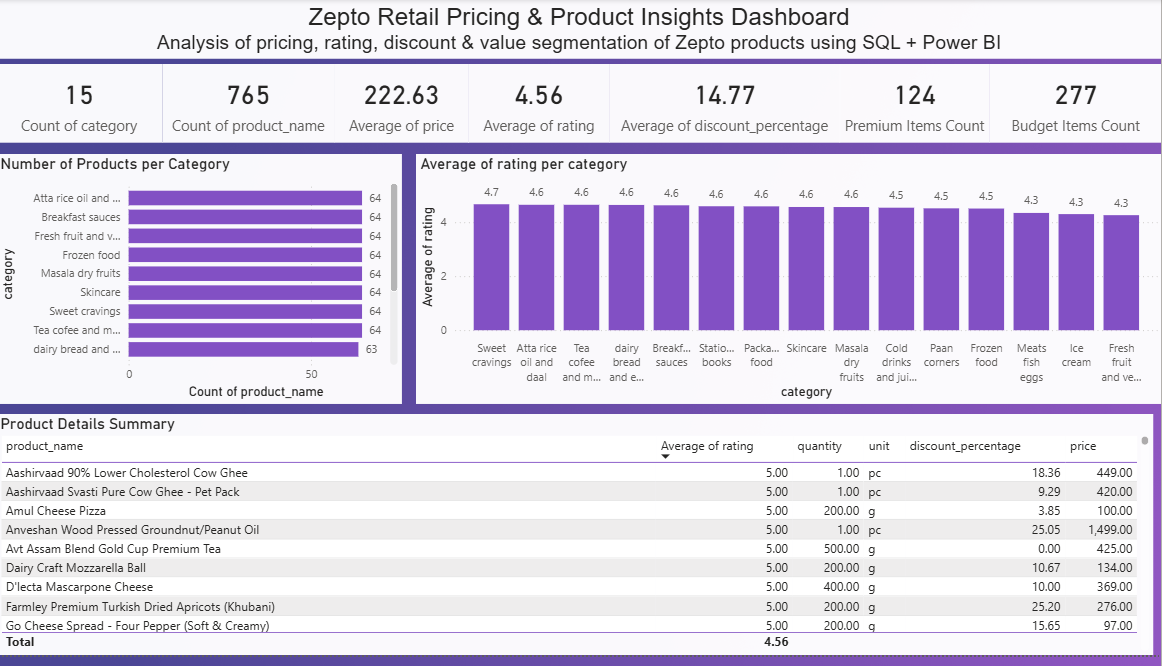

What the dashboard file says about the page in this screenshot:
{"tool":"powerbi","page":{"name":"Product Overview","canvas":[1280,720],"ordinal":0},"visuals":[{"type":"card","fields":{"Values":["Count(public zepto_products.category)"]},"box":[0,71.4,182.5,86.4],"z":0},{"type":"card","fields":{"Values":["CountNonNull(public zepto_products.product_name)"]},"box":[182.5,71.4,189.4,86.4],"z":1000},{"type":"card","fields":{"Values":["Avg(public zepto_products.price)"]},"box":[371.9,71.4,146.8,86.4],"z":2000},{"type":"card","fields":{"Values":["Avg(public zepto_products.rating)"]},"box":[518.7,71.4,155.1,86.4],"z":3000},{"type":"card","fields":{"Values":["Avg(public zepto_products.discount_percentage)"]},"box":[673.8,71.4,252.5,86.4],"z":4000},{"type":"textbox","box":[0,0,1280.3,65.9],"z":5000},{"type":"card","fields":{"Values":["Query2.Premium Items Count"]},"box":[926.2,71.4,164.7,86.4],"z":6000},{"type":"card","fields":{"Values":["Query2.Budget Items Count"]},"box":[1090.9,71.4,189.4,86.4],"z":7000},{"type":"clusteredBarChart","title":"Number of Products per Category","fields":{"Category":["public zepto_products.category"],"Y":["CountNonNull(public zepto_products.product_name)"]},"box":[0,170.2,446,274.4],"z":8000},{"type":"clusteredColumnChart","title":"Average of rating per category","fields":{"Category":["public zepto_products.category"],"Y":["Avg(public zepto_products.rating)"]},"box":[461.1,170.2,819.2,274.4],"z":9000},{"type":"tableEx","title":"Product Details Summary","fields":{"Values":["public zepto_products.product_name","Avg(public zepto_products.rating)","public zepto_products.quantity","public zepto_products.unit","public zepto_products.discount_percentage","public zepto_products.price"]},"box":[0,455.6,1270.7,264.8],"z":10000}]}

Visuals, with their boxes in screenshot pixels (x1, y1, x2, y2), scaled from the page's 1280x720 canvas onto the 1162x666 screenshot:
card - Count(public zepto_products.category): region(0, 66, 166, 146)
card - CountNonNull(public zepto_products.product_name): region(166, 66, 338, 146)
card - Avg(public zepto_products.price): region(338, 66, 471, 146)
card - Avg(public zepto_products.rating): region(471, 66, 612, 146)
card - Avg(public zepto_products.discount_percentage): region(612, 66, 841, 146)
textbox: region(0, 0, 1161, 61)
card - Query2.Premium Items Count: region(841, 66, 990, 146)
card - Query2.Budget Items Count: region(990, 66, 1161, 146)
"Number of Products per Category" clusteredBarChart: region(0, 157, 405, 411)
"Average of rating per category" clusteredColumnChart: region(419, 157, 1161, 411)
"Product Details Summary" tableEx: region(0, 421, 1154, 665)
